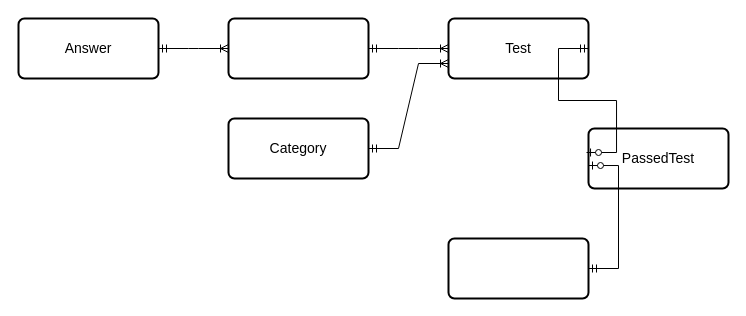
Some shapes in this 746 by 316 pixel diagram are drawn without their labels. The shapes that lost their labels are listed below. From the top down, each one's centre as x and y in pixels, then its label:
At pixel 298 48: "Question".
At pixel 518 268: "User".
